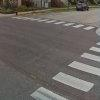Crosswalk: (73, 25, 96, 99)
